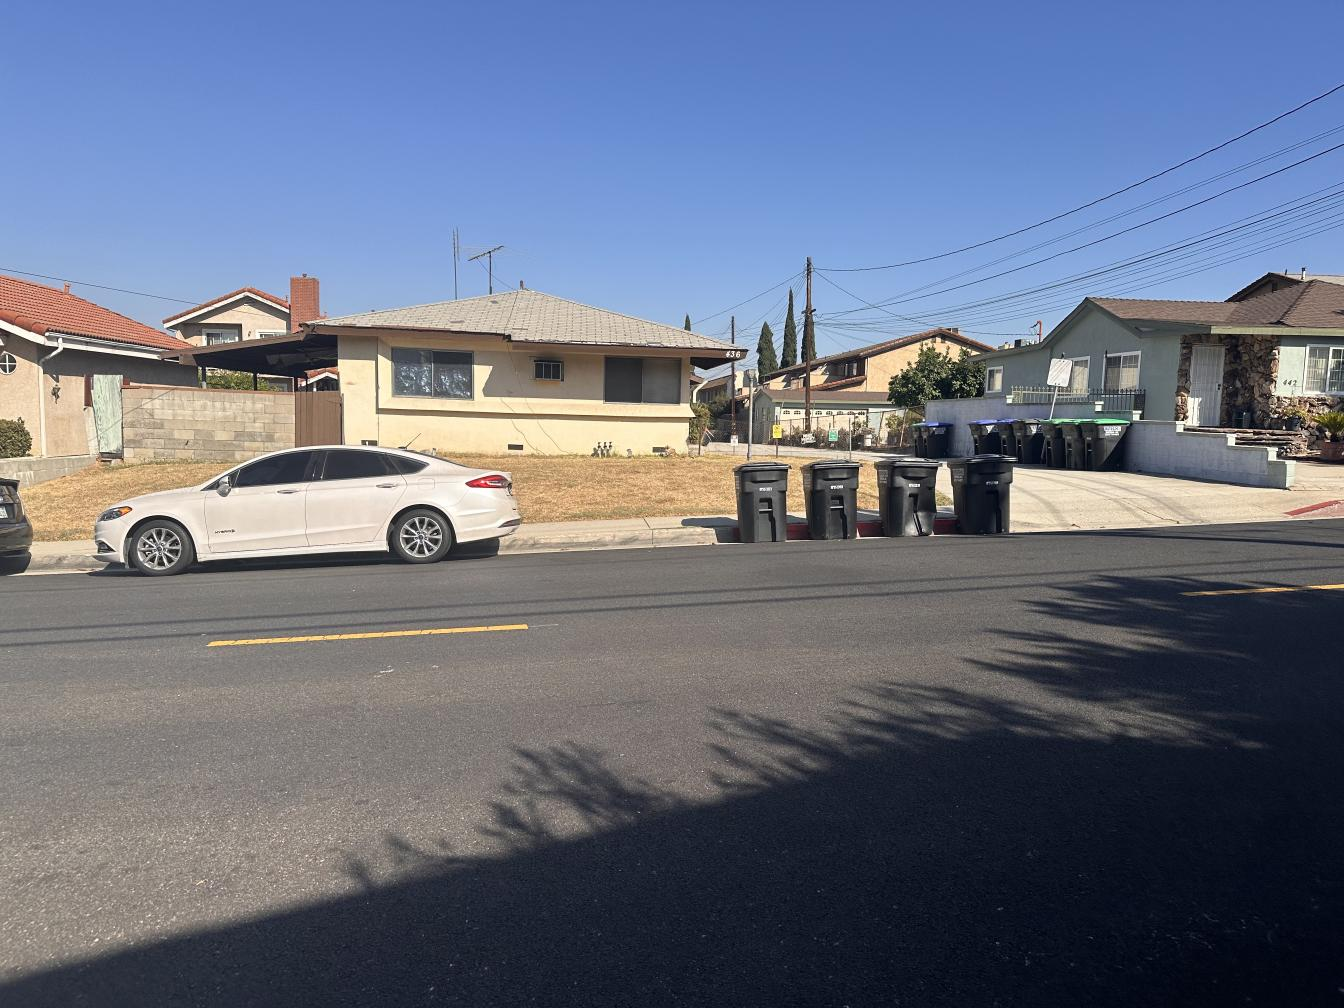curbs-laRr: (523, 529, 724, 553), (44, 551, 84, 577)
